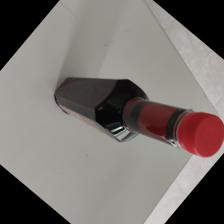Namngu: (55, 75, 224, 161)
